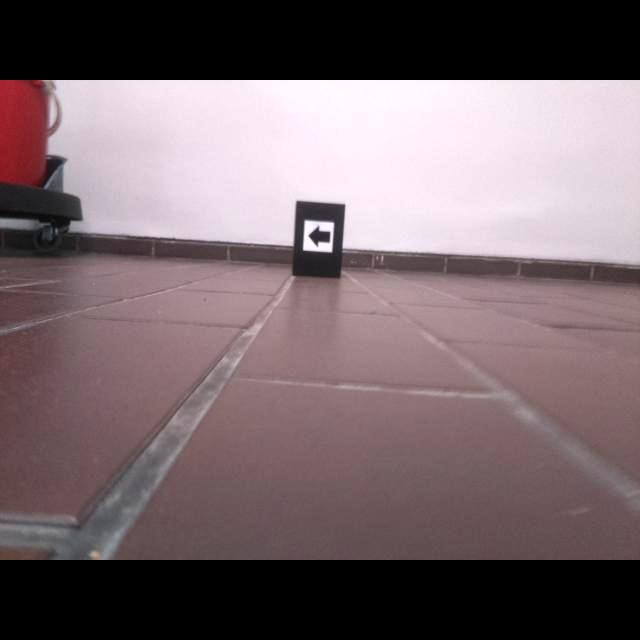LEFT: (307, 224, 331, 249)
